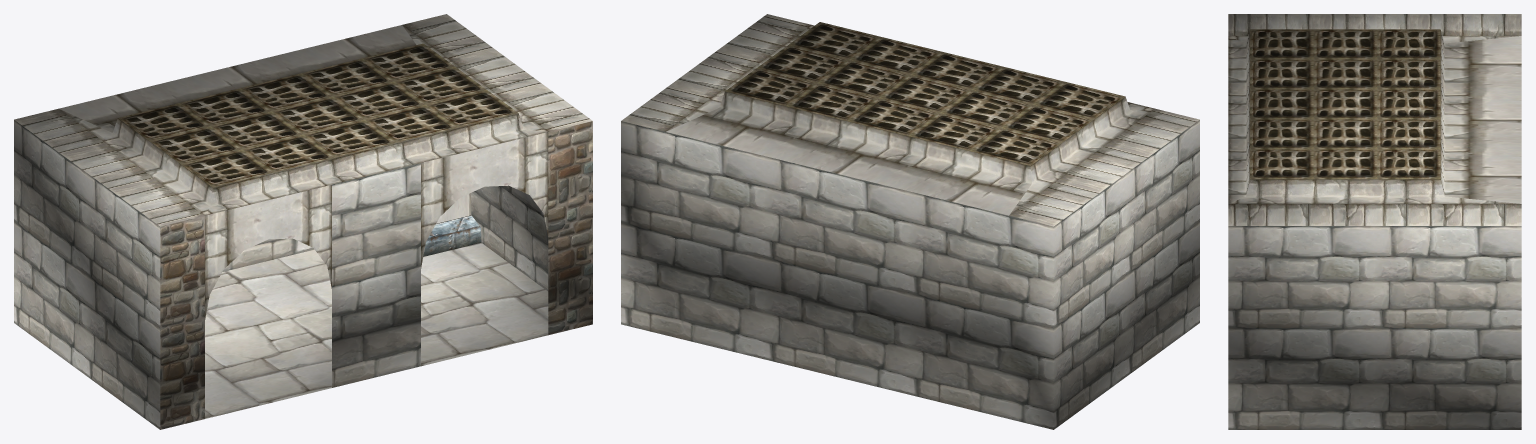
Rendered from stormwind_049.fbx.
3 views of the same model, side by side, from view 1: azimuth 30°, elevation 25°; view 2: azimuth 150°, elevation 25°; view 3: azimuth 270°, elevation 25° (orthographic).
Visible parts, largest first — view 1: stormwind_049_39, stormwind_049_40, stormwind_049_52, stormwind_049_81, stormwind_049_38, stormwind_049_82; view 2: stormwind_049_39, stormwind_049_40, stormwind_049_81; view 3: stormwind_049_39, stormwind_049_40, stormwind_049_81.
Boxes of the visible parts, x1,y1,x2,y2 form: stormwind_049_39: (14, 120, 548, 429); stormwind_049_40: (14, 14, 592, 319); stormwind_049_52: (205, 243, 548, 418); stormwind_049_81: (118, 43, 517, 187); stormwind_049_38: (160, 121, 592, 429); stormwind_049_82: (423, 215, 481, 256); stormwind_049_39: (621, 120, 1199, 429); stormwind_049_40: (621, 14, 1199, 226); stormwind_049_81: (725, 22, 1125, 165); stormwind_049_39: (1228, 226, 1521, 429); stormwind_049_40: (1228, 14, 1521, 225); stormwind_049_81: (1250, 29, 1440, 179).
Bounding box in the file's own units: 13.7 × 6.62 × 8.02.
